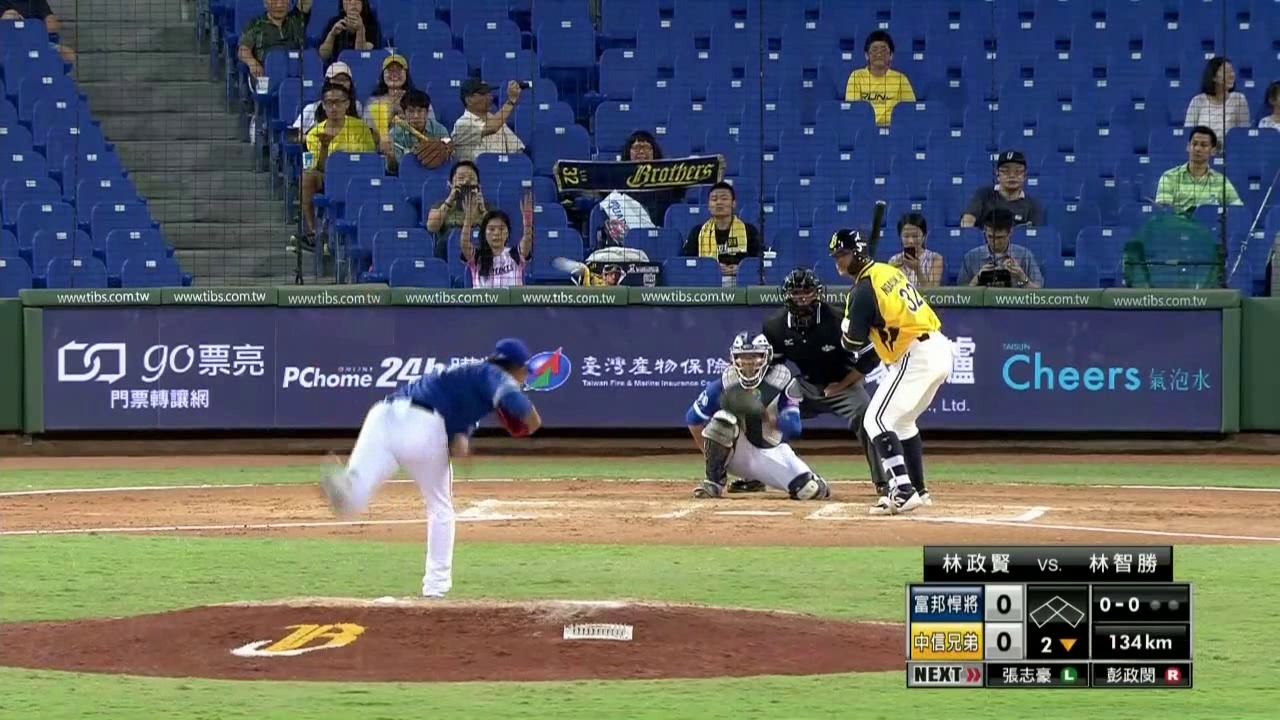ball: (559, 255, 582, 276)
base: (1026, 590, 1086, 632)
bat: (851, 196, 888, 306)
out: (1146, 589, 1186, 619)
score1: (986, 588, 1024, 618)
score2: (987, 623, 1023, 657)
session: (1028, 634, 1087, 660)
speed: (1097, 628, 1185, 656)
strikeball: (1093, 589, 1144, 617)
